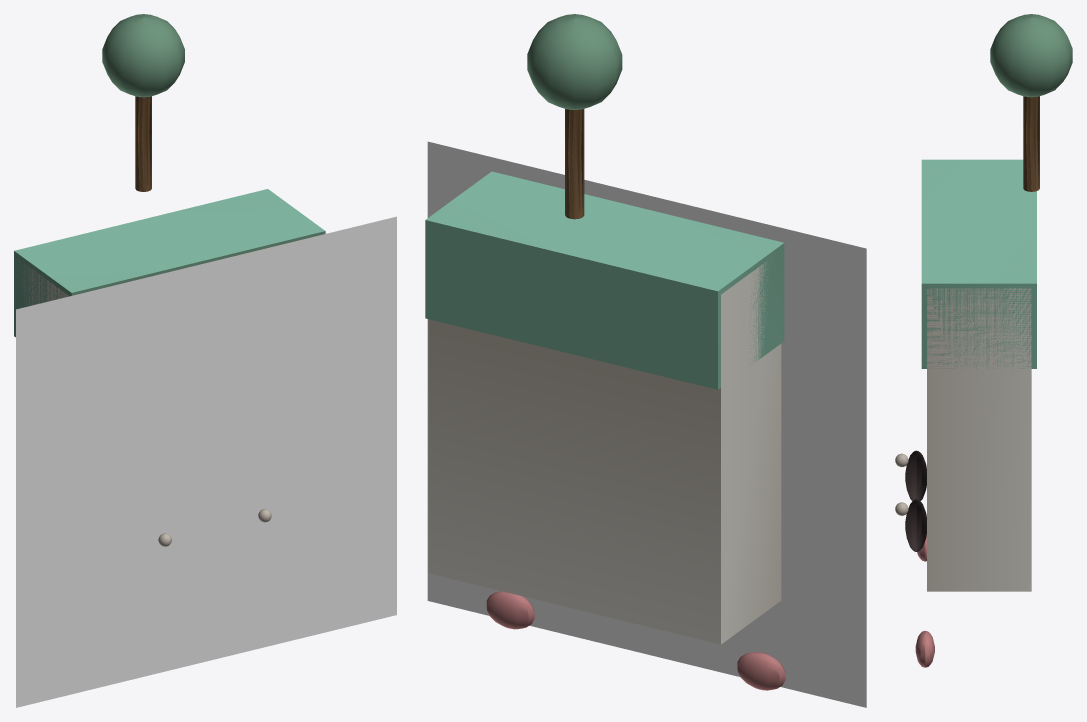
3 renders of one model, left to right at view 1: azimuth 30°, elevation 25°; view 2: azimuth 150°, elevation 25°; view 3: azimuth 270°, elevation 25°, orthographic. The views are drawn at different scales.
Parts seen in each view (by area): view 1: pet_p3e73eb50; view 2: pet_p3e73eb50; view 3: pet_p3e73eb50.
Boxes of the visible parts, box(x1,y1,x2,y2) form: pet_p3e73eb50: box(14, 14, 396, 707); pet_p3e73eb50: box(425, 14, 866, 707); pet_p3e73eb50: box(895, 14, 1072, 667).
Size of the model in its own units: 0.42 by 0.63 by 0.1698.
